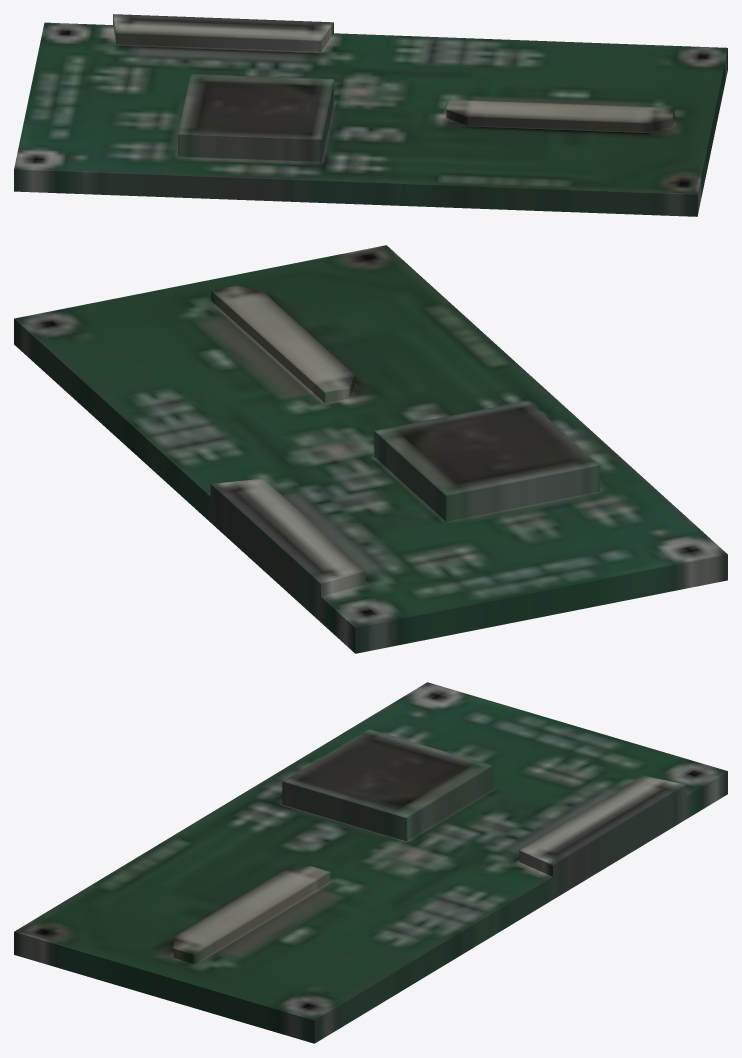
The model's file is pcb_5.obj.
3 views of the same model, one above another, from view 1: azimuth 30°, elevation 25°; view 2: azimuth 150°, elevation 25°; view 3: azimuth 270°, elevation 25° (orthographic). The views are drawn at different scales.
Parts seen in each view (by area): view 1: pcb_5; view 2: pcb_5; view 3: pcb_5.
Boxes of the visible parts, x1=… form: pcb_5: x1=14, y1=14, x2=727, y2=216; pcb_5: x1=14, y1=245, x2=727, y2=653; pcb_5: x1=14, y1=682, x2=727, y2=1043.
Size of the model in its own units: 0.1572 by 0.01 by 0.1401.
